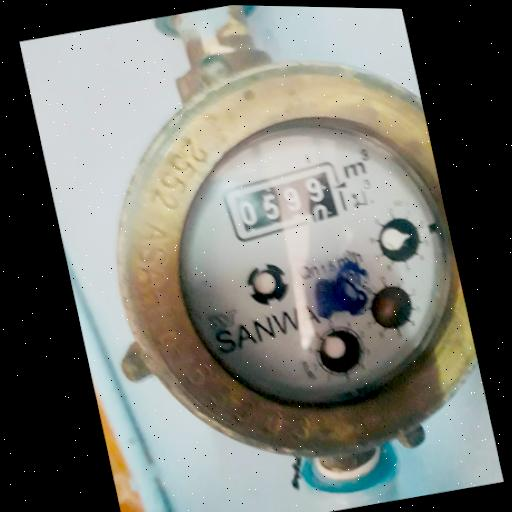0: (234, 191, 267, 234)
5: (253, 185, 286, 229)
9: (296, 171, 339, 225), (275, 179, 310, 224)
border_water_meter_number: (217, 156, 353, 249)
